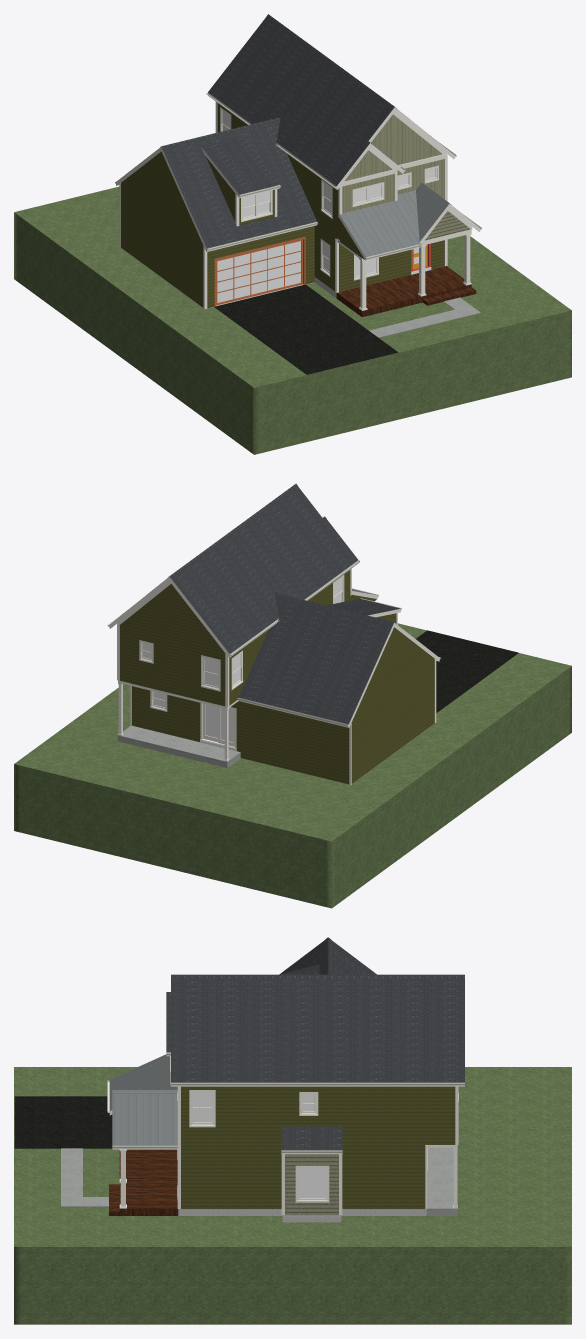
File: house.dae
The picture shows the model from 3 angles, top to bottom: view 1: azimuth 30°, elevation 25°; view 2: azimuth 150°, elevation 25°; view 3: azimuth 270°, elevation 25°; orthographic projection. The views are drawn at different scales.
Visible parts, largest first — view 1: geo_132, geo_131, geo_103, geo_175, geo_11, geo_127, geo_147, geo_140, geo_148, geo_106, geo_61, geo_138 (+1 smaller); view 2: geo_132, geo_131, geo_103, geo_11, geo_175, geo_61, geo_127; view 3: geo_132, geo_131, geo_103, geo_11, geo_147, geo_175, geo_148, geo_61, geo_137, geo_53, geo_127.
Part boxes in pixels (left/top/right/bottom): geo_132: left=14, top=186, right=571, bottom=454; geo_131: left=126, top=14, right=436, bottom=248; geo_103: left=120, top=103, right=444, bottom=308; geo_175: left=214, top=284, right=398, bottom=374; geo_11: left=115, top=92, right=481, bottom=310; geo_127: left=217, top=111, right=435, bottom=302; geo_147: left=340, top=182, right=469, bottom=256; geo_140: left=340, top=114, right=444, bottom=242; geo_148: left=336, top=266, right=476, bottom=317; geo_106: left=214, top=237, right=305, bottom=306; geo_61: left=369, top=297, right=480, bottom=337; geo_138: left=337, top=153, right=471, bottom=260; geo_132: left=14, top=623, right=571, bottom=908; geo_131: left=123, top=483, right=400, bottom=724; geo_103: left=119, top=570, right=434, bottom=784; geo_11: left=107, top=560, right=440, bottom=784; geo_175: left=416, top=630, right=518, bottom=712; geo_61: left=118, top=725, right=240, bottom=767; geo_127: left=142, top=579, right=341, bottom=742; geo_132: left=14, top=1067, right=571, bottom=1324; geo_131: left=166, top=937, right=464, bottom=1150; geo_103: left=181, top=1086, right=455, bottom=1208; geo_11: left=107, top=1052, right=464, bottom=1215; geo_147: left=109, top=1054, right=177, bottom=1145; geo_175: left=14, top=1096, right=112, bottom=1148; geo_148: left=109, top=1149, right=178, bottom=1215; geo_61: left=61, top=1147, right=457, bottom=1215; geo_137: left=285, top=1154, right=338, bottom=1214; geo_53: left=178, top=1209, right=426, bottom=1222; geo_127: left=193, top=1093, right=325, bottom=1198.
Size of the model in its own units: 696 by 911 by 519.
Materials: 50 (24 with a texture image).
